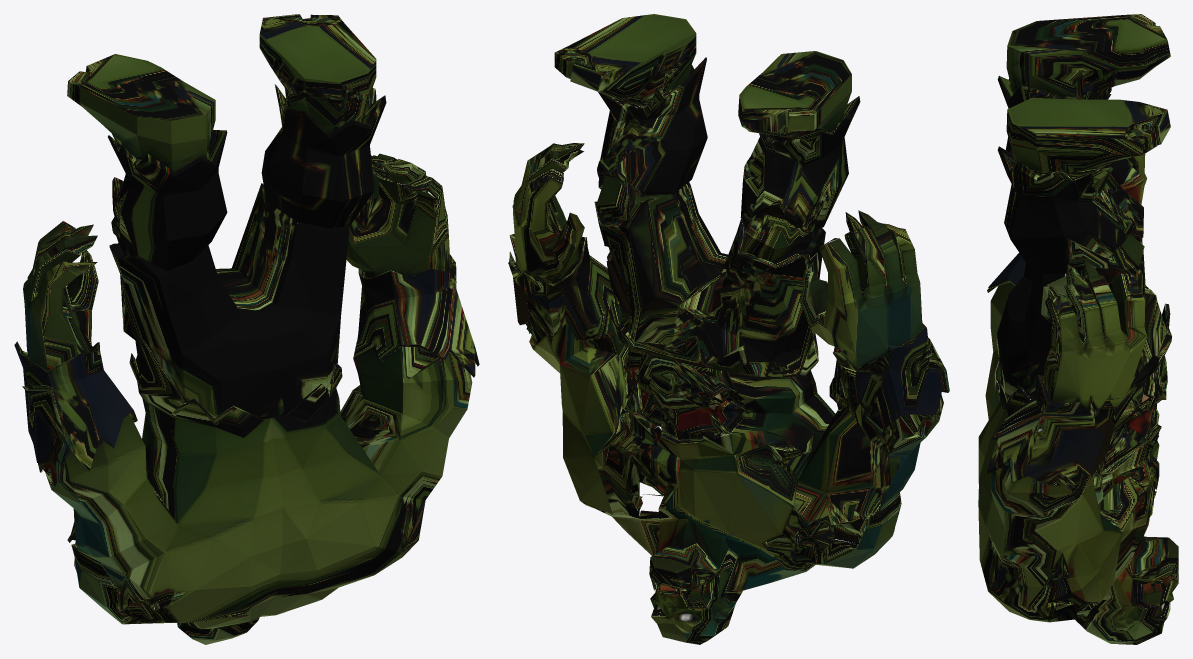
3 renders of one model, left to right at view 1: azimuth 30°, elevation 25°; view 2: azimuth 150°, elevation 25°; view 3: azimuth 270°, elevation 25°, orthographic. The views are drawn at different scales.
Parts seen in each view (by area): view 1: _z02_test4000; view 2: _z02_test4000; view 3: _z02_test4000.
Boxes of the visible parts, x1,y1,x2,y2 form: _z02_test4000: (14, 14, 479, 644); _z02_test4000: (508, 14, 949, 644); _z02_test4000: (978, 14, 1178, 644).
Size of the model in its own units: 1.39 by 1.78 by 0.573.
1 material, 1 textured.
